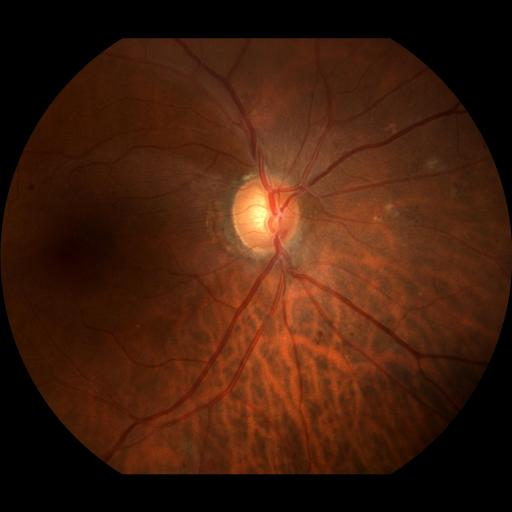Optic Cup: (248, 193, 279, 231)
Optic Disc: (232, 177, 300, 252)
